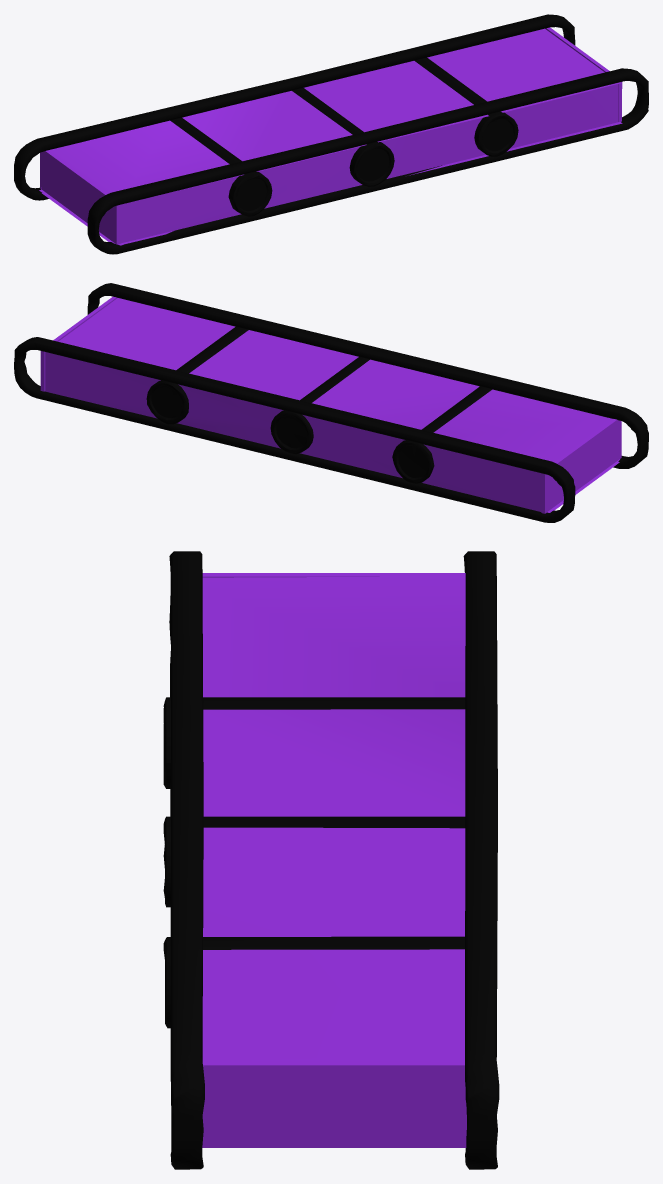
3 renders of one model, top to bottom at view 1: azimuth 30°, elevation 25°; view 2: azimuth 150°, elevation 25°; view 3: azimuth 270°, elevation 25°, orthographic. The views are drawn at different scales.
Parts seen in each view (by area): view 1: mesh_node.009, mesh_node.007, mesh_node.002, mesh_node, Cube.001, mesh_node.005, mesh_node.001, mesh_node.004, mesh_node.012, Cube; view 2: mesh_node.009, mesh_node, mesh_node.002, Cube.001, mesh_node.005, mesh_node.004, mesh_node.001, Cube; view 3: mesh_node.009, Cube, mesh_node.002, mesh_node, mesh_node.004, mesh_node.005, mesh_node.001, Cube.001.
Part boxes in pixels (<box>): mesh_node.009: <box>41,28,621,193</box>; mesh_node.007: <box>117,82,622,244</box>; mesh_node.002: <box>87,68,648,254</box>; mesh_node: <box>14,14,575,200</box>; Cube.001: <box>40,151,120,244</box>; mesh_node.005: <box>414,57,518,156</box>; mesh_node.001: <box>292,88,394,186</box>; mesh_node.004: <box>170,117,272,216</box>; mesh_node.012: <box>39,122,622,245</box>; Cube: <box>545,27,621,121</box>; mesh_node.009: <box>45,298,612,511</box>; mesh_node: <box>14,337,575,522</box>; mesh_node.002: <box>87,283,648,468</box>; Cube.001: <box>541,419,621,513</box>; mesh_node.005: <box>146,327,248,424</box>; mesh_node.004: <box>392,386,492,483</box>; mesh_node.001: <box>270,357,369,454</box>; Cube: <box>40,296,117,391</box>; mesh_node.009: <box>202,573,465,1061</box>; Cube: <box>202,1061,466,1147</box>; mesh_node.002: <box>169,551,204,1169</box>; mesh_node: <box>463,551,499,1169</box>; mesh_node.004: <box>163,697,465,788</box>; mesh_node.005: <box>163,936,464,1028</box>; mesh_node.001: <box>163,816,465,907</box>; Cube.001: <box>202,573,465,577</box>.
Bounding box in the file's own units: 100 × 9.77 × 26.27.
